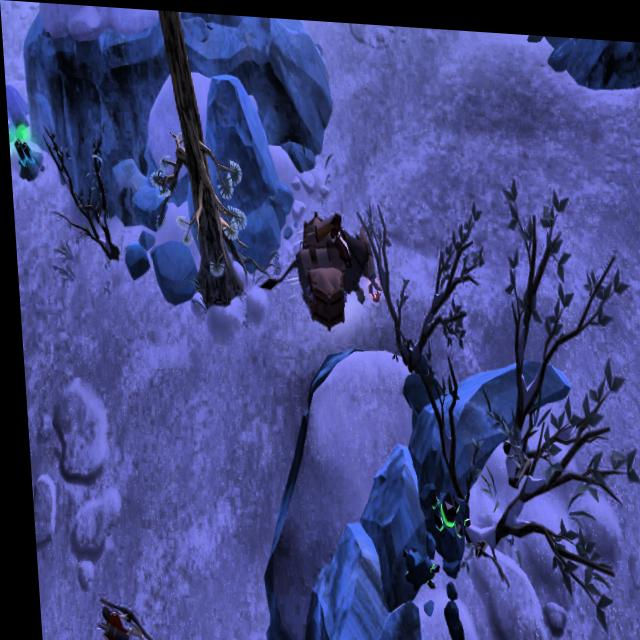enemy_factionUndead: (89, 589, 142, 640)
ore_t4: (13, 139, 37, 176)
